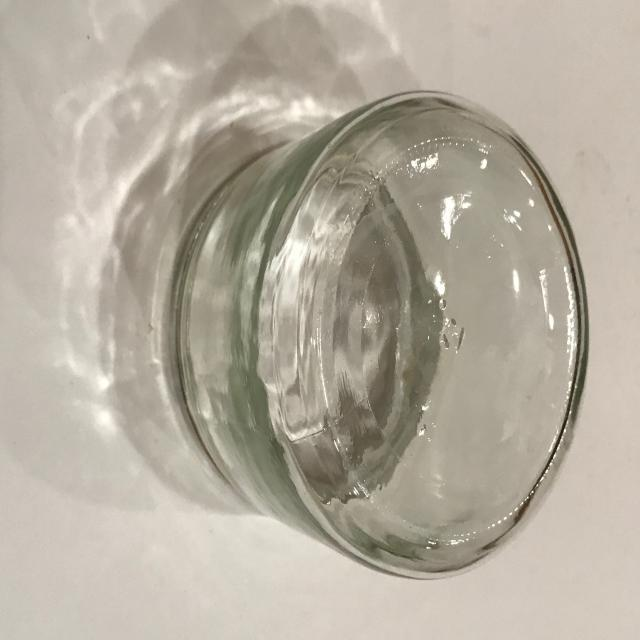glass: (166, 88, 592, 584)
